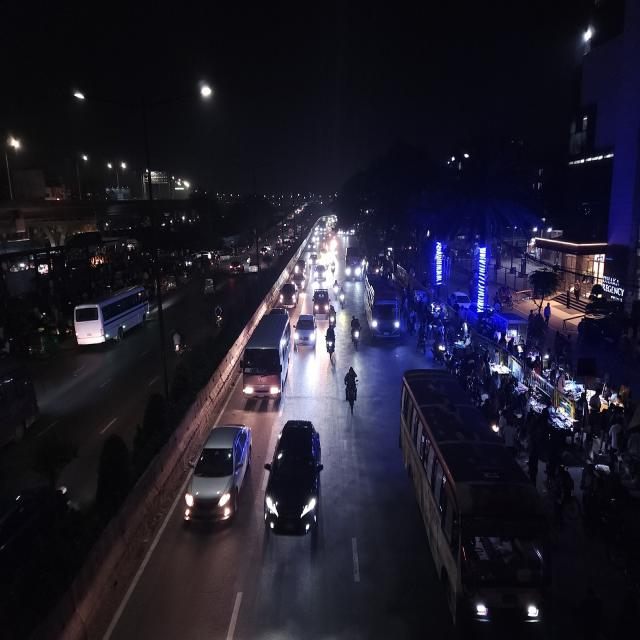bus: (396, 365, 552, 639), (72, 282, 152, 352), (361, 271, 401, 342), (344, 245, 363, 282)
car: (262, 414, 326, 549), (180, 419, 255, 533), (238, 306, 292, 405), (293, 311, 317, 349), (450, 288, 474, 314), (278, 281, 298, 308), (293, 257, 308, 278), (246, 255, 260, 275), (228, 258, 243, 276), (295, 273, 307, 294)
cng: (202, 274, 215, 296)
motorcycle: (342, 363, 361, 415), (170, 327, 188, 363), (349, 312, 362, 351), (212, 301, 226, 336), (324, 323, 337, 359), (333, 278, 342, 307), (338, 284, 347, 310), (330, 260, 338, 278)
pedestrian: (408, 309, 416, 338)
pickup_van: (312, 286, 331, 318)
